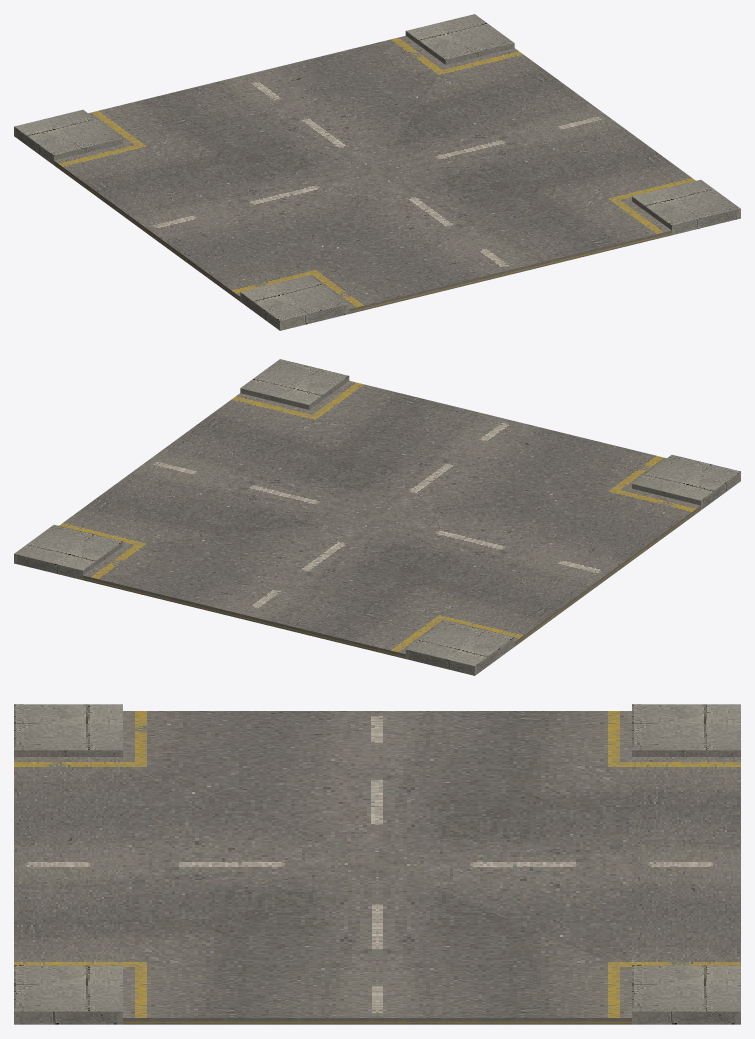
File: road_1_junction.glb
3 views of the same model, one above another, from view 1: azimuth 30°, elevation 25°; view 2: azimuth 150°, elevation 25°; view 3: azimuth 270°, elevation 25° (orthographic). The views are drawn at different scales.
Visible parts, largest first — view 1: road_1_junction; view 2: road_1_junction; view 3: road_1_junction.
Part boxes in pixels (box(x1,y1,x2,y2)): road_1_junction: box(14, 14, 740, 330); road_1_junction: box(14, 359, 740, 675); road_1_junction: box(14, 704, 740, 1024).
Size of the model in its own units: 16 by 0.32 by 16.
Materials: 2 (2 with a texture image).
